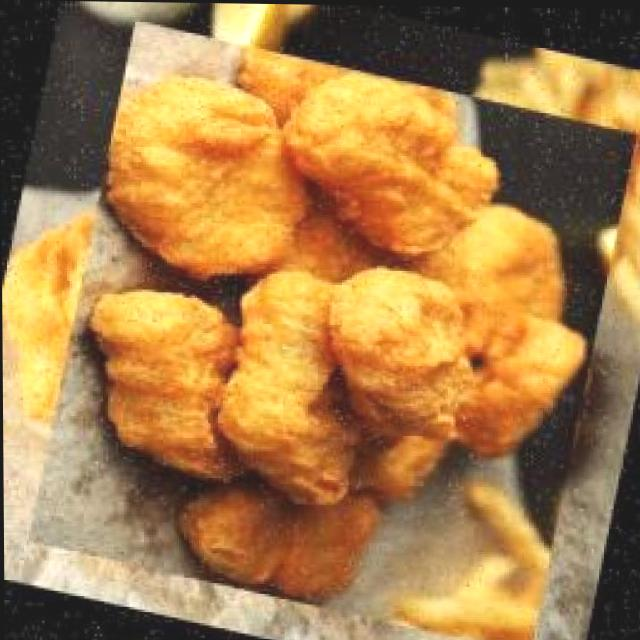chicken_nuggets: (17, 20, 640, 640)
